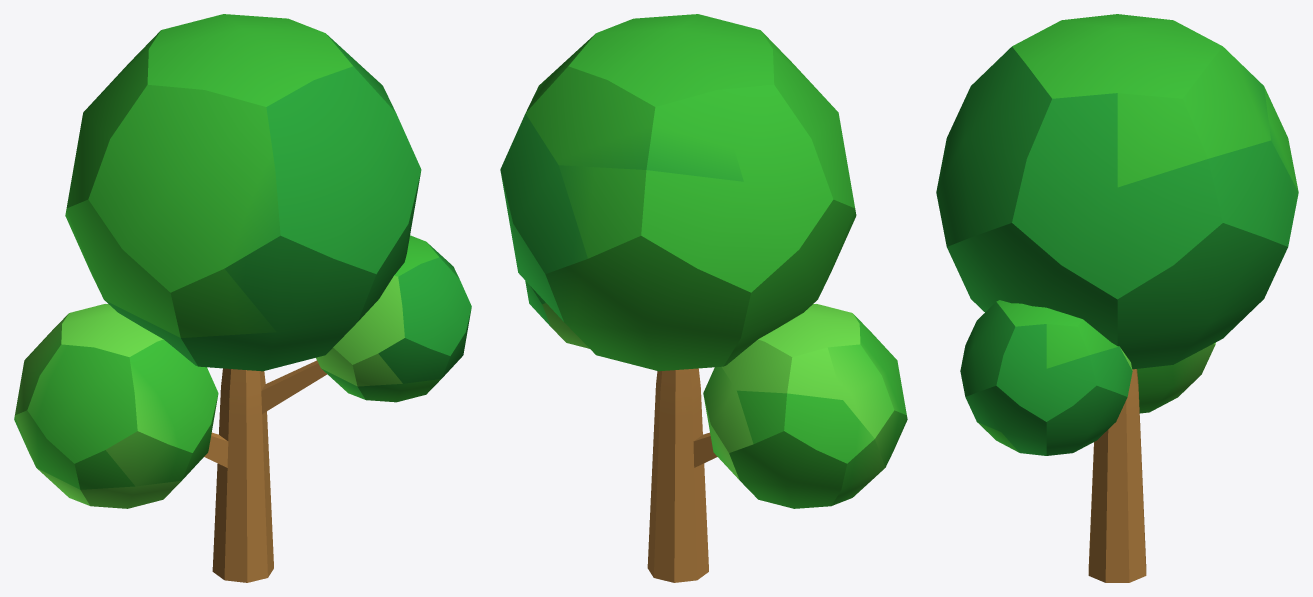
Rendered from Tree.fbx.
3 renders of one model, left to right at view 1: azimuth 30°, elevation 25°; view 2: azimuth 150°, elevation 25°; view 3: azimuth 270°, elevation 25°, orthographic.
Visible parts, largest first — view 1: Tree; view 2: Tree; view 3: Tree.
Part boxes in pixels (left/top/right/bottom): Tree: left=14, top=14, right=471, bottom=582; Tree: left=500, top=14, right=907, bottom=582; Tree: left=936, top=14, right=1298, bottom=582.
Size of the model in its own units: 319 by 414 by 251.
